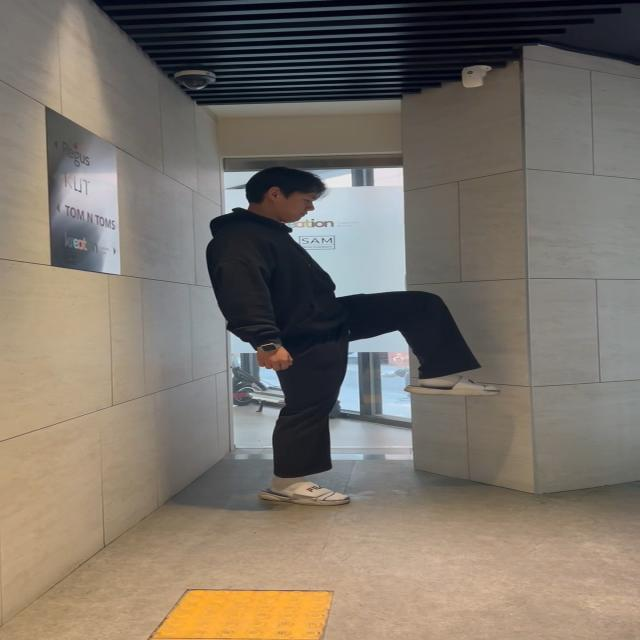knee: (352, 279, 518, 412)
